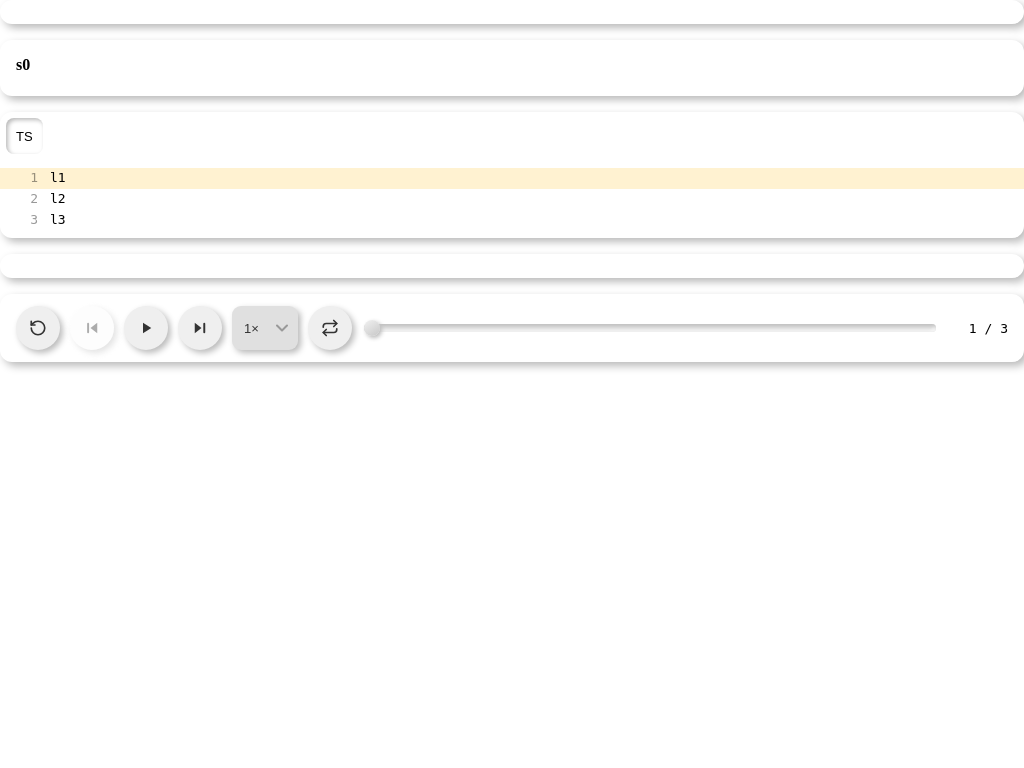
Test case: AlgorithmPlayer › 测验模式（C-112） › TC-PLAYER-QUIZ-02 自动播放到 quiz 步拦停出卡；题卡期间 → 不换步
Click the button named "播放" at (146, 328), box [124,306,168,350]
Wait 2800 ms
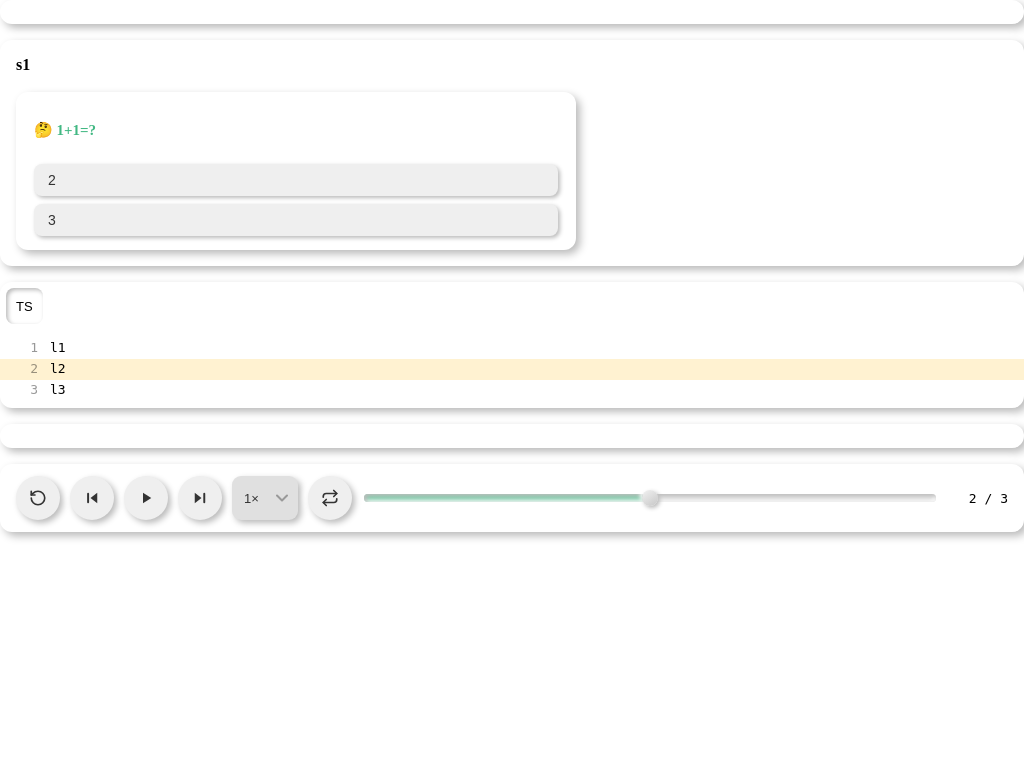
Expected: the element showing "🤔 1+1=? 2 3" is shown, [16,92,576,250]
Expected: the text with class "counter" reads "2 / 3", [969,491,1008,506]
